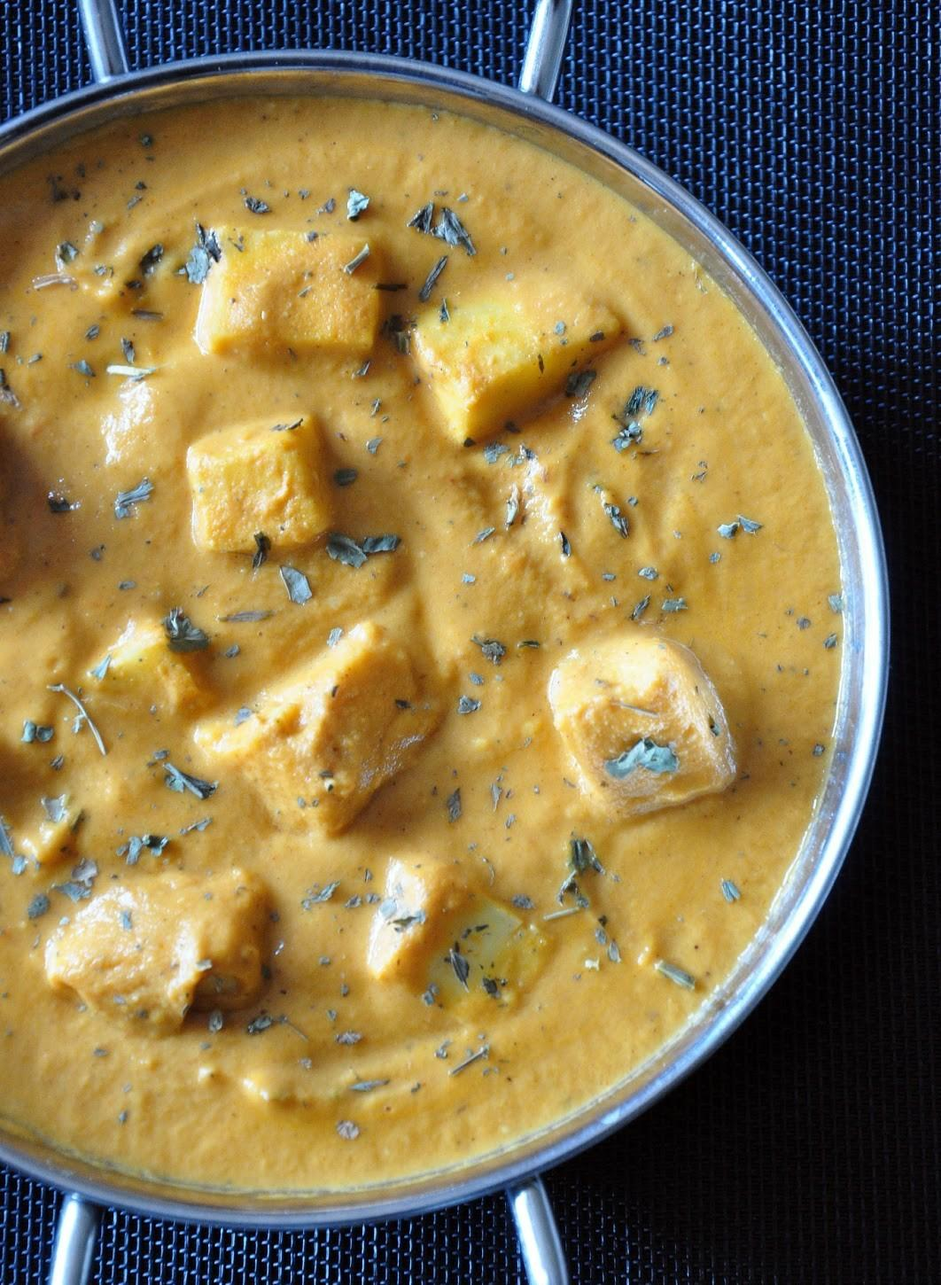ShahiPaneer: (0, 99, 845, 1193)
